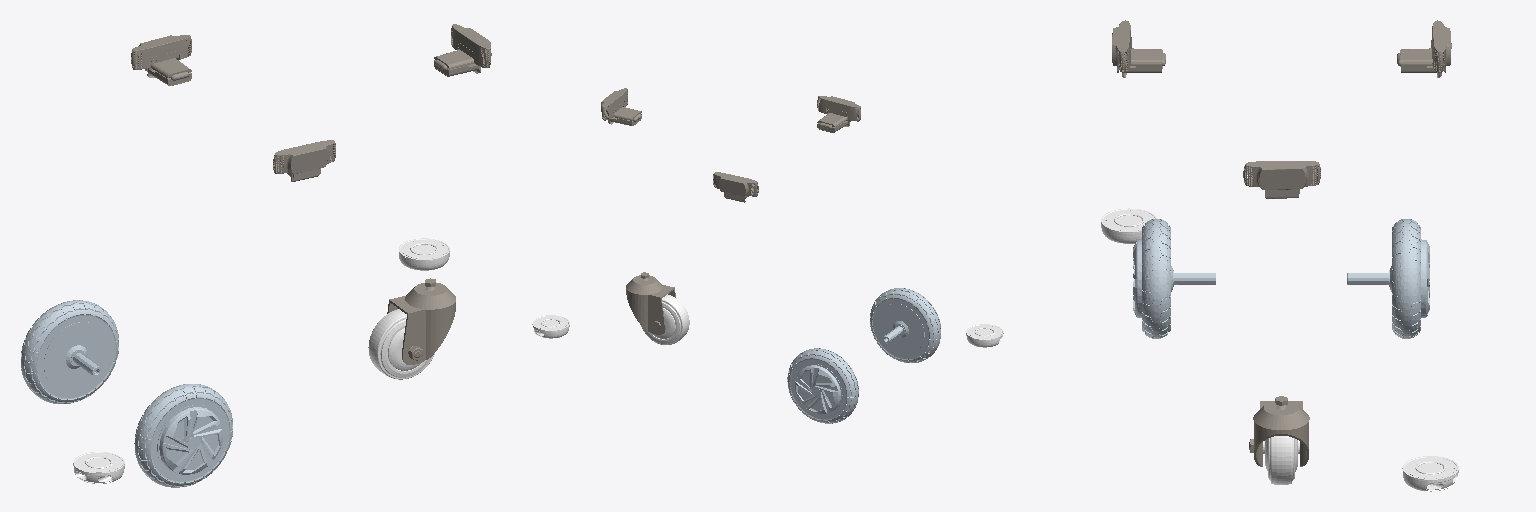
URDF robot description (freebotics_description):
<?xml version="1.0" encoding="utf-8"?>
<robot name="freebotics_description">

  <!-- BASE FOOTPRINT (somente referência, sem visual/collision) -->
  <link name="base_footprint"/>
  <joint name="base_footprint_to_base_link" type="fixed">
    <origin xyz="0 0 0" rpy="0 0 0"/>
    <parent link="base_footprint"/>
    <child link="base_link"/>
  </joint>

  <!-- BASE_LINK (chassi) -->
  <link name="base_link">
    <inertial>
      <origin xyz="0.031416 0.00034126 0.03777" rpy="0 0 0" />
      <mass value="74.94" />
      <inertia ixx="0.31094" ixy="-0.00020432" ixz="-0.0064285"
               iyy="0.42877" iyz="0.00043298" izz="0.62523" />
    </inertial>
    <visual>
      <origin xyz="0 0 0" rpy="0 0 0"/>
      <geometry>
        <mesh filename="package://freebotics_description/meshes/base_link.STL"/>
      </geometry>
      <material name="">
        <color rgba="0.42353 0.64706 0.27451 1"/>
      </material>
    </visual>
    <collision>
      <origin xyz="0 0 0" rpy="0 0 0"/>
      <geometry>
        <mesh filename="package://freebotics_description/meshes/base_link.STL"/>
      </geometry>
    </collision>
  </link>

  <!-- FRONT FORK -->
  <link name="front_fork">
    <inertial>
      <origin xyz="-0.012374 -0.00085969 -0.014072" rpy="0 0 0" />
      <mass value="0.5"/>
      <inertia ixx="0.00049832" ixy="1.1607E-07" ixz="-4.9049E-05"
               iyy="0.00042535" iyz="-1.4187E-08" izz="0.00056355"/>
    </inertial>
    <visual>
      <origin xyz="0 0 0" rpy="0 0 0"/>
      <geometry>
        <mesh filename="package://freebotics_description/meshes/front_fork.STL"/>
      </geometry>
      <material name="">
        <color rgba="0.64706 0.61961 0.58431 1"/>
      </material>
    </visual>
    <collision>
      <origin xyz="0 0 0" rpy="0 0 0"/>
      <geometry>
        <mesh filename="package://freebotics_description/meshes/front_fork.STL"/>
      </geometry>
    </collision>
  </link>
  <joint name="front_fork_j" type="continuous">
    <origin xyz="0.33029 -0.00232 -0.12324" rpy="0 0 0"/>
    <parent link="base_link"/>
    <child link="front_fork"/>
    <axis xyz="0 0 1"/>
    <limit effort="5" velocity="5"/>
    <dynamics damping="0.1" friction="0.1"/>
  </joint>

  <!-- FRONT WHEEL -->
  <link name="front_wheel">
    <inertial>
      <origin xyz="0 0 0" rpy="0 0 0"/>
      <mass value="0.36"/>
      <inertia ixx="0.0002479" ixy="2.3292E-15" ixz="-7.9385E-21"
               iyy="0.00041439" iyz="7.6637E-20" izz="0.0002479"/>
    </inertial>
    <visual>
      <origin xyz="0 0 0" rpy="0 0 0"/>
      <geometry>
        <mesh filename="package://freebotics_description/meshes/front_wheel.STL"/>
      </geometry>
      <material name="">
        <color rgba="1 1 1 1"/>
      </material>
    </visual>
    <collision>
      <origin xyz="0 0 0" rpy="0 0 0"/>
      <geometry>
        <mesh filename="package://freebotics_description/meshes/front_wheel.STL"/>
      </geometry>
    </collision>
  </link>
  <joint name="front_wheel_j" type="continuous">
    <origin xyz="-0.044955 0 -0.059863" rpy="0 0 0"/>
    <parent link="front_fork"/>
    <child link="front_wheel"/>
    <axis xyz="0 1 0"/>
    <limit effort="5" velocity="5"/>
    <dynamics damping="0.1" friction="0.1"/>
  </joint>

  <!-- REAR WHEELS -->
  <link name="rear_wheel_left">
    <inertial>
      <origin xyz="5.2322E-10 0.0014486 6.9661E-06" rpy="0 0 0"/>
      <mass value="2.5"/>
      <inertia ixx="0.0080485" ixy="-7.0676E-11" ixz="1.4677E-09"
               iyy="0.014242" iyz="2.0518E-06" izz="0.0080487"/>
    </inertial>
    <visual>
      <origin xyz="0 0 0" rpy="0 0 0"/>
      <geometry>
        <mesh filename="package://freebotics_description/meshes/rear_wheel_left.STL"/>
      </geometry>
      <material name="">
        <color rgba="0.81176 0.85882 0.89804 1"/>
      </material>
    </visual>
    <collision>
      <origin xyz="0 0 0" rpy="0 0 0"/>
      <geometry>
        <mesh filename="package://freebotics_description/meshes/rear_wheel_left.STL"/>
      </geometry>
    </collision>
  </link>
  <joint name="rear_wheel_left_j" type="continuous">
    <origin xyz="-0.16466 0.15852 -0.15604" rpy="0 0 0"/>
    <parent link="base_link"/>
    <child link="rear_wheel_left"/>
    <axis xyz="0 1 0"/>
    <limit effort="5" velocity="5"/>
    <dynamics damping="0.1" friction="0.1"/>
  </joint>

  <link name="rear_wheel_right">
    <inertial>
      <origin xyz="-5.2322E-10 -0.0014486 6.9661E-06" rpy="0 0 0"/>
      <mass value="2.5"/>
      <inertia ixx="0.0080485" ixy="-7.0676E-11" ixz="-1.4677E-09"
               iyy="0.014242" iyz="-2.0518E-06" izz="0.0080487"/>
    </inertial>
    <visual>
      <origin xyz="0 0 0" rpy="0 0 0"/>
      <geometry>
        <mesh filename="package://freebotics_description/meshes/rear_wheel_right.STL"/>
      </geometry>
      <material name="">
        <color rgba="0.81176 0.85882 0.89804 1"/>
      </material>
    </visual>
    <collision>
      <origin xyz="0 0 0" rpy="0 0 0"/>
      <geometry>
        <mesh filename="package://freebotics_description/meshes/rear_wheel_right.STL"/>
      </geometry>
    </collision>
  </link>
  <joint name="rear_wheel_right_j" type="continuous">
    <origin xyz="-0.16466 -0.16316 -0.15604" rpy="0 0 0"/>
    <parent link="base_link"/>
    <child link="rear_wheel_right"/>
    <axis xyz="0 1 0"/>
    <limit effort="5" velocity="5"/>
    <dynamics damping="0.1" friction="0.1"/>
  </joint>

  <!-- SENSORES LIDAR -->
  <link name="front_rp">
    <inertial>
      <origin xyz="0 0 0" rpy="0 0 0"/>
      <mass value="0.20467"/>
      <inertia ixx="0.0001" ixy="0.0" ixz="0.0"
               iyy="0.0001" iyz="0.0" izz="0.0001"/>
    </inertial>
    <visual>
      <origin xyz="0 0 0" rpy="0 0 0"/>
      <geometry>
        <mesh filename="package://freebotics_description/meshes/front_rp.STL"/>
      </geometry>
      <material name="">
        <color rgba="1 1 1 1"/>
      </material>
    </visual>
    <collision>
      <origin xyz="0 0 0" rpy="0 0 0"/>
      <geometry>
        <mesh filename="package://freebotics_description/meshes/front_rp.STL"/>
      </geometry>
    </collision>
  </link>
  <joint name="front_rp_j" type="continuous">
    <origin xyz="0.4309 0.18984 -0.13809" rpy="0 0 0"/>
    <parent link="base_link"/>
    <child link="front_rp"/>
    <axis xyz="0 0 1"/>
    <limit effort="5" velocity="5"/>
    <dynamics damping="0.1" friction="0.1"/>
  </joint>

  <link name="front_lidar_link"/>
  <joint name="front_lidar_joint" type="fixed">
    <origin xyz="0 0 -0.02010462941" rpy="3.1415 0 0"/>
    <parent link="front_rp"/>
    <child link="front_lidar_link"/>
  </joint>

  <link name="rear_rp">
    <inertial>
      <origin xyz="0 0 0" rpy="0 0 0"/>
      <mass value="0.20467"/>
      <inertia ixx="0.0001" ixy="0.0" ixz="0.0"
               iyy="0.0001" iyz="0.0" izz="0.0001"/>
    </inertial>
    <visual>
      <origin xyz="0 0 0" rpy="0 0 0"/>
      <geometry>
        <mesh filename="package://freebotics_description/meshes/rear_rp.STL"/>
      </geometry>
      <material name="">
        <color rgba="1 1 1 1"/>
      </material>
    </visual>
    <collision>
      <origin xyz="0 0 0" rpy="0 0 0"/>
      <geometry>
        <mesh filename="package://freebotics_description/meshes/rear_rp.STL"/>
      </geometry>
    </collision>
  </link>
  <joint name="rear_rp_j" type="continuous">
    <origin xyz="-0.32355 -0.19856 -0.13824" rpy="0 0 0"/>
    <parent link="base_link"/>
    <child link="rear_rp"/>
    <axis xyz="0 0 1"/>
    <limit effort="5" velocity="5"/>
    <dynamics damping="0.1" friction="0.1"/>
  </joint>

  <link name="rear_lidar_link"/>
  <joint name="rear_lidar_joint" type="fixed">
    <origin xyz="0 0 -0.02010462941" rpy="3.1415 0 0"/>
    <parent link="rear_rp"/>
    <child link="rear_lidar_link"/>
  </joint>

  <!-- ==================== CÂMERAS (com links intermediários) ==================== -->

  <!-- FRONT CAMERA MOUNT -->
  <link name="front_camera_mount"/>
  <joint name="front_camera_mount_joint" type="fixed">
    <origin xyz="0.38059 -0.0020788 0.23668" rpy="0 0 0"/>
    <parent link="base_link"/>
    <child link="front_camera_mount"/>
  </joint>
  <!-- FRONT CAMERA -->
  <link name="front_camera">
    <inertial>
      <origin xyz="0.0071114 -0.00224384 0.008686" rpy="0 0 0" />
      <mass value="0.2" />
      <inertia ixx="0.00023447" ixy="4.2864E-06" ixz="2.2467E-06"
               iyy="0.00011007" iyz="7.0982E-08" izz="0.00029142" />
    </inertial>
    <visual>
      <origin xyz="0 0 0" rpy="0 0 0"/>
      <geometry>
        <mesh filename="package://freebotics_description/meshes/front_camera.STL"/>
      </geometry>
      <material name="">
        <color rgba="0.64706 0.61961 0.58824 1"/>
      </material>
    </visual>
    <collision>
      <origin xyz="0 0 0" rpy="0 0 0"/>
      <geometry>
        <mesh filename="package://freebotics_description/meshes/front_camera.STL"/>
      </geometry>
    </collision>
  </link>
  <joint name="front_camera_joint" type="fixed">
    <origin xyz="0 0 0" rpy="0 0 0"/>
    <parent link="front_camera_mount"/>
    <child link="front_camera"/>
  </joint>

  <!-- LEFT CAMERA MOUNT -->
  <link name="camera_le_mount"/>
  <joint name="camera_le_mount_joint" type="fixed">
    <origin xyz="0.0089734 0.18361 0.23628" rpy="0 0 0"/>
    <parent link="base_link"/>
    <child link="camera_le_mount"/>
  </joint>
  <!-- LEFT CAMERA -->
  <link name="camera_le">
    <inertial>
      <origin xyz="-0.00024384 0.0071114 0.008686" rpy="0 0 0" />
      <mass value="0.2" />
      <inertia ixx="0.00011007" ixy="-4.2864E-06" ixz="-7.0982E-08"
               iyy="0.00023447" iyz="2.2467E-06" izz="0.00029142" />
    </inertial>
    <visual>
      <origin xyz="0 0 0" rpy="0 0 0"/>
      <geometry>
        <mesh filename="package://freebotics_description/meshes/camera_le.STL"/>
      </geometry>
      <material name="">
        <color rgba="0.64706 0.61961 0.58824 1"/>
      </material>
    </visual>
    <collision>
      <origin xyz="0 0 0" rpy="0 0 0"/>
      <geometry>
        <mesh filename="package://freebotics_description/meshes/camera_le.STL"/>
      </geometry>
    </collision>
  </link>
  <joint name="camera_le_joint" type="fixed">
    <origin xyz="0 0 0" rpy="0 0 0"/>
    <parent link="camera_le_mount"/>
    <child link="camera_le"/>
  </joint>

  <!-- RIGHT CAMERA MOUNT -->
  <link name="camera_ld_mount"/>
  <joint name="camera_ld_mount_joint" type="fixed">
    <origin xyz="0.0089734 -0.18825 0.23628" rpy="0 0 0"/>
    <parent link="base_link"/>
    <child link="camera_ld_mount"/>
  </joint>
  <!-- RIGHT CAMERA -->
  <link name="camera_ld">
    <inertial>
      <origin xyz="-0.0002466 -0.0071113 0.008686" rpy="0 0 0" />
      <mass value="0.2" />
      <inertia ixx="0.00011007" ixy="4.303E-06" ixz="-8.3951E-08"
               iyy="0.00023446" iyz="-2.2463E-06" izz="0.00029142" />
    </inertial>
    <visual>
      <origin xyz="0 0 0" rpy="0 0 0"/>
      <geometry>
        <mesh filename="package://freebotics_description/meshes/camera_ld.STL"/>
      </geometry>
      <material name="">
        <color rgba="0.64706 0.61961 0.58824 1"/>
      </material>
    </visual>
    <collision>
      <origin xyz="0 0 0" rpy="0 0 0"/>
      <geometry>
        <mesh filename="package://freebotics_description/meshes/camera_ld.STL"/>
      </geometry>
    </collision>
  </link>
  <joint name="camera_ld_joint" type="fixed">
    <origin xyz="0 0 0" rpy="0 0 0"/>
    <parent link="camera_ld_mount"/>
    <child link="camera_ld"/>
  </joint>

</robot>

--- Facts derived from the render (not from the file) ---
The picture shows the robot from 3 angles, left to right: view 1: azimuth 30°, elevation 25°; view 2: azimuth 150°, elevation 25°; view 3: azimuth 270°, elevation 25°; orthographic projection.
Model freebotics_description with 16 links and 15 joints (6 continuous, 9 fixed), rooted at base_footprint, posed all joints at 0.
Visible links, largest first — view 1: rear_wheel_left, rear_wheel_right, front_fork, camera_le, front_wheel, front_camera, camera_ld, rear_rp, front_rp; view 2: rear_wheel_left, rear_wheel_right, front_fork, camera_ld, front_wheel, front_camera, camera_le, front_rp, rear_rp; view 3: rear_wheel_left, rear_wheel_right, front_fork, front_camera, camera_le, camera_ld, front_rp, front_wheel, rear_rp.
Link boxes in pixels (<box>): rear_wheel_left: <box>21,300,118,403</box>; rear_wheel_right: <box>134,384,232,487</box>; front_fork: <box>387,278,455,364</box>; camera_le: <box>131,35,191,85</box>; front_wheel: <box>368,309,434,379</box>; front_camera: <box>434,24,491,76</box>; camera_ld: <box>273,140,335,181</box>; rear_rp: <box>73,452,124,483</box>; front_rp: <box>399,238,449,270</box>; rear_wheel_left: <box>787,348,858,423</box>; rear_wheel_right: <box>870,288,940,362</box>; front_fork: <box>626,272,675,334</box>; camera_ld: <box>817,96,860,132</box>; front_wheel: <box>641,294,689,344</box>; front_camera: <box>601,88,641,125</box>; camera_le: <box>713,172,758,202</box>; front_rp: <box>532,315,569,338</box>; rear_rp: <box>966,324,1003,347</box>; rear_wheel_left: <box>1347,219,1429,338</box>; rear_wheel_right: <box>1133,219,1215,338</box>; front_fork: <box>1249,396,1309,466</box>; front_camera: <box>1243,161,1320,198</box>; camera_le: <box>1397,20,1451,77</box>; camera_ld: <box>1112,20,1165,77</box>; front_rp: <box>1402,456,1458,491</box>; front_wheel: <box>1263,436,1299,484</box>; rear_rp: <box>1101,208,1156,243</box>.
Size in the robot's own frame: 0.8259 by 0.4599 by 0.5034 metres.
9 mesh visuals loaded from 10 distinct referenced files (9 binary STL); not drawn: 1 (reference not matched to a file when rendering).
